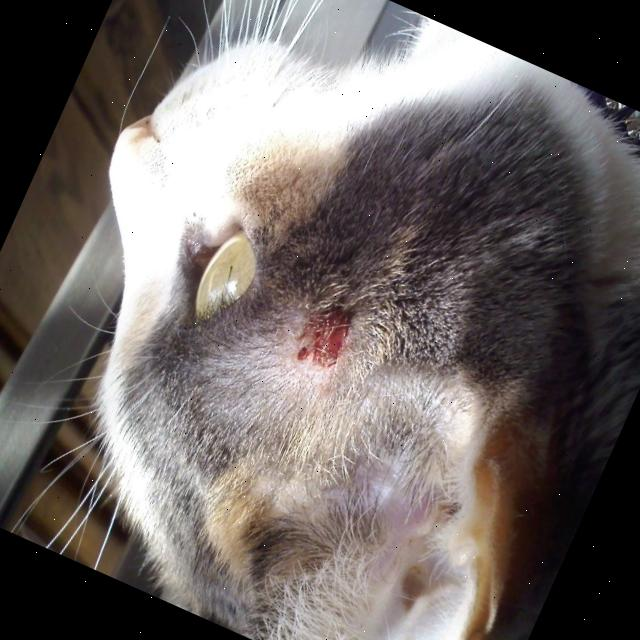cat-lump-and-bump: (290, 293, 364, 380)
